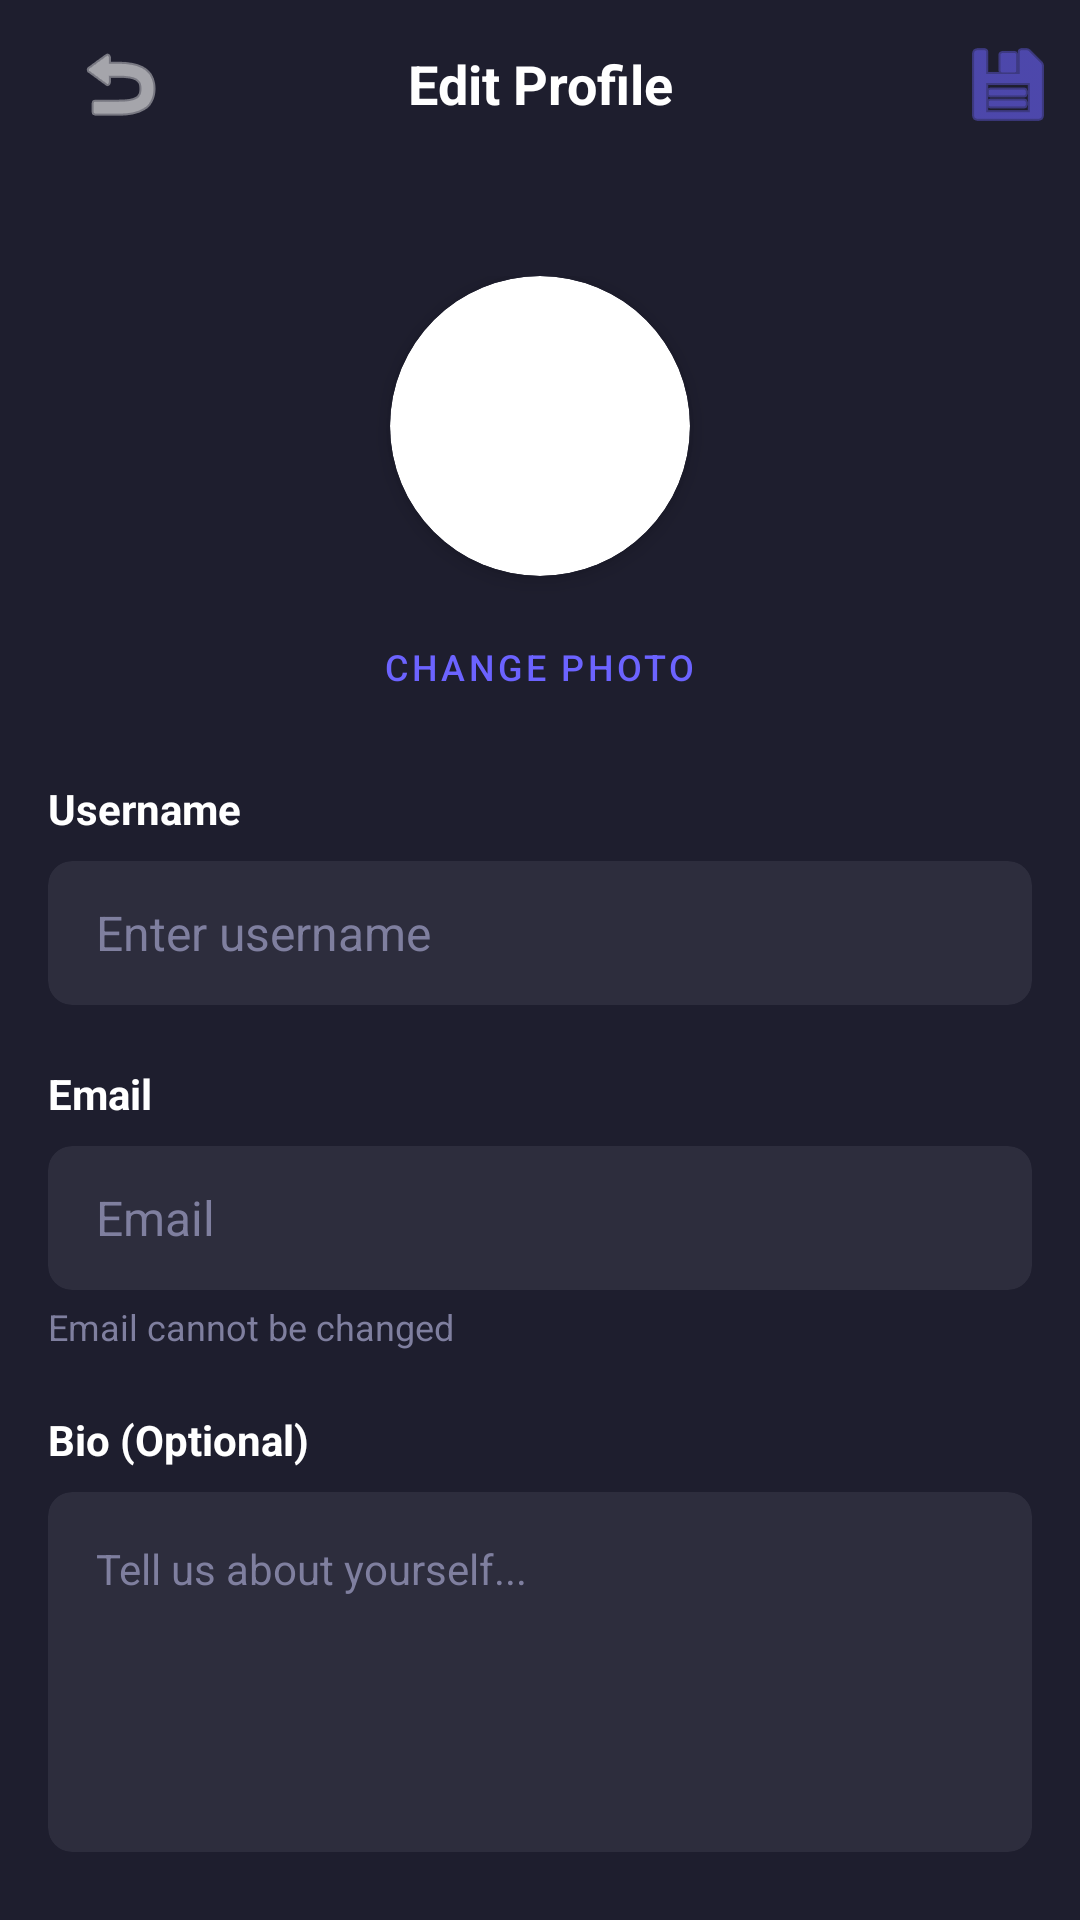

Screen size 1080×1920. Icon name, then its box in pixels as (x1, y1, x2, y2):
revert: (87, 53, 156, 116)
save: (972, 48, 1044, 121)
